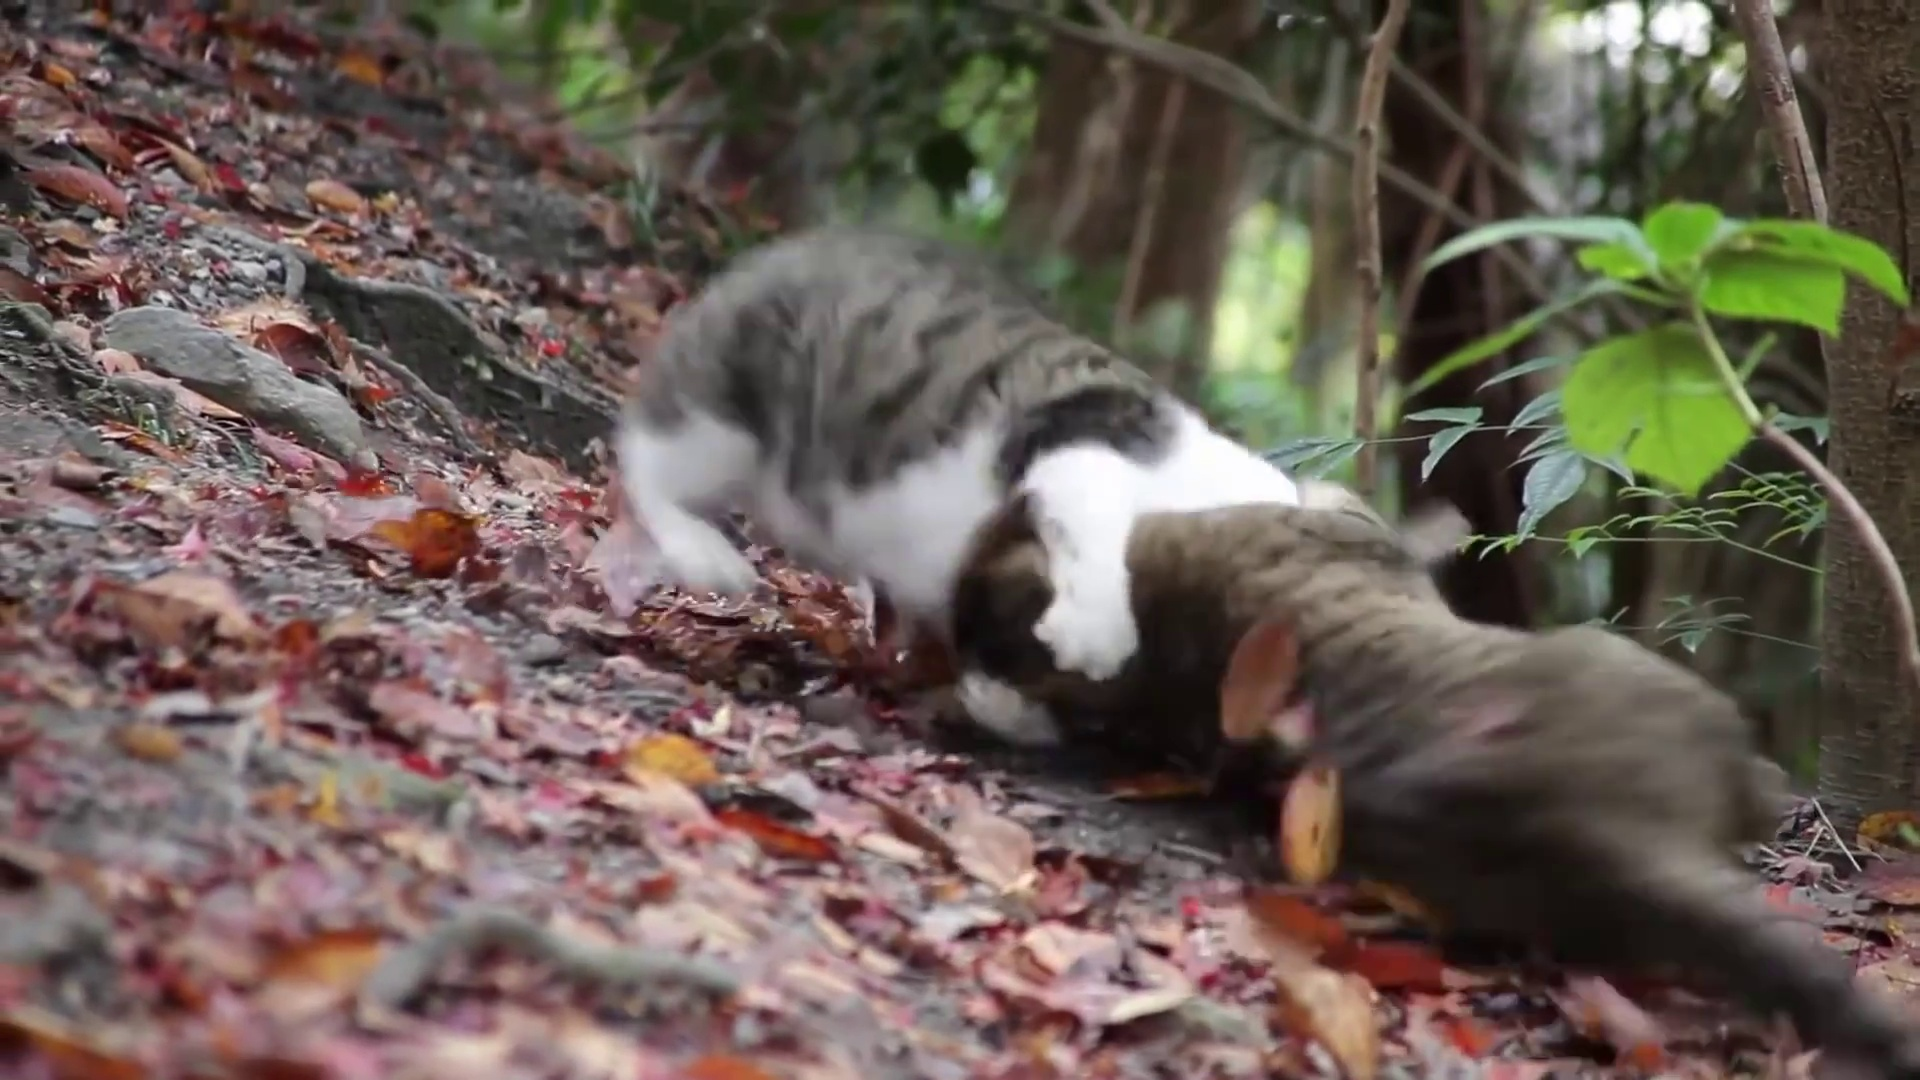black-white: (611, 220, 1305, 688)
pure black: (953, 498, 1911, 1063)
